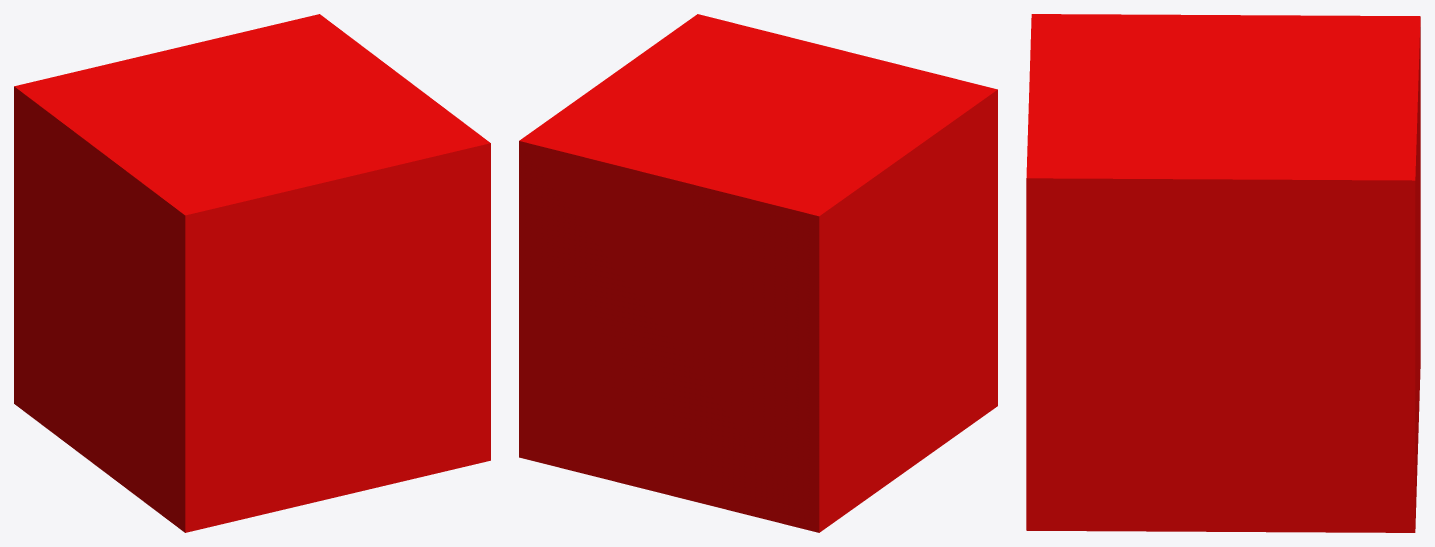
The model's file is Prisma Pentagonal.016.glb.
The picture shows the model from 3 angles, left to right: view 1: azimuth 30°, elevation 25°; view 2: azimuth 150°, elevation 25°; view 3: azimuth 270°, elevation 25°; orthographic projection. The views are drawn at different scales.
Visible parts, largest first — view 1: Prisma Pentagonal.016; view 2: Prisma Pentagonal.016; view 3: Prisma Pentagonal.016.
Boxes of the visible parts, x1,y1,x2,y2 form: Prisma Pentagonal.016: (14,14,490,532); Prisma Pentagonal.016: (519,14,997,532); Prisma Pentagonal.016: (1026,14,1420,532).
Bounding box in the file's own units: 2.03 × 2 × 2.03.
